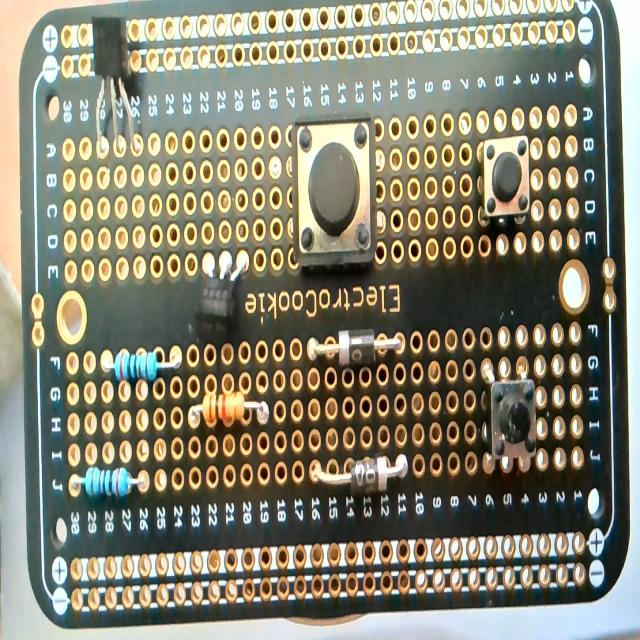diode: (313, 451, 412, 492), (307, 328, 403, 366)
resistor: (189, 390, 270, 428), (103, 347, 181, 384), (71, 466, 144, 498)
switch: (294, 117, 374, 266), (480, 134, 530, 222), (490, 378, 538, 466)
transistor: (91, 13, 141, 158), (194, 247, 248, 349)
